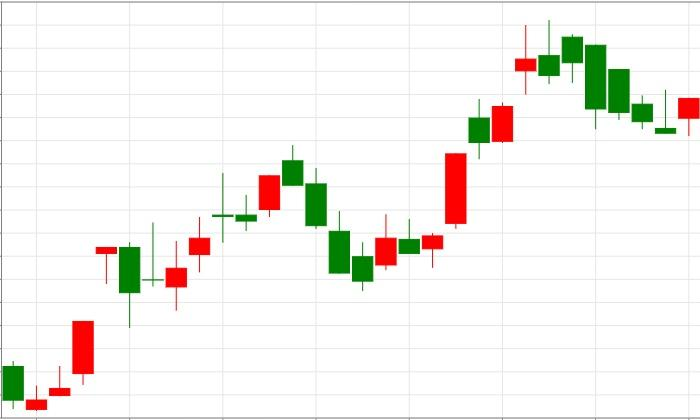shooting_star_fall: (422, 20, 559, 268)
three_black_crows_fall: (165, 144, 351, 311)
